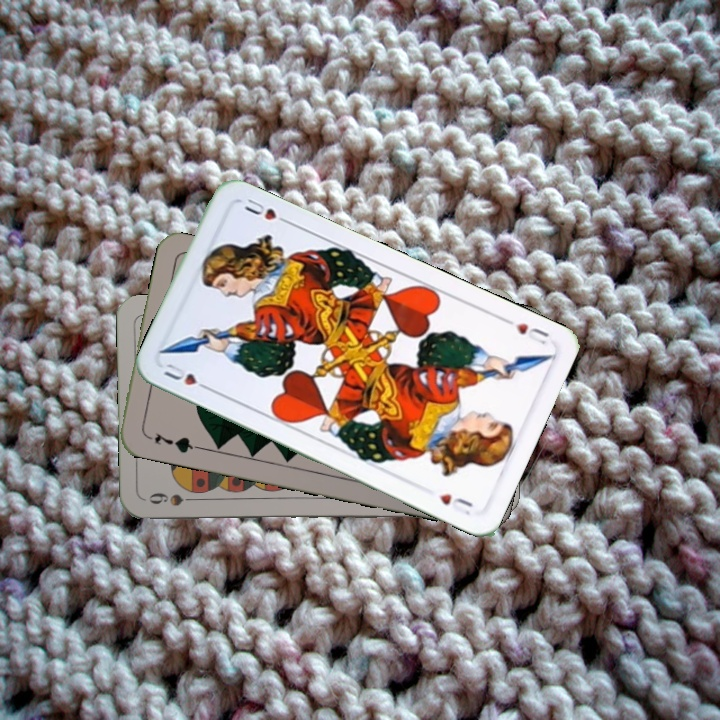G7: (142, 429, 201, 456)
HU: (159, 359, 214, 394), (511, 318, 552, 347)
S9: (145, 488, 203, 508)
